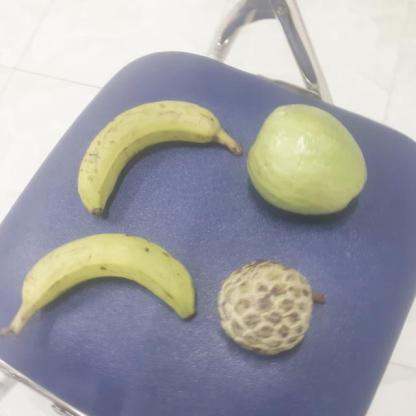annona: (219, 260, 324, 356)
banana: (78, 100, 250, 218), (21, 233, 205, 329)
guava: (245, 101, 369, 216)
